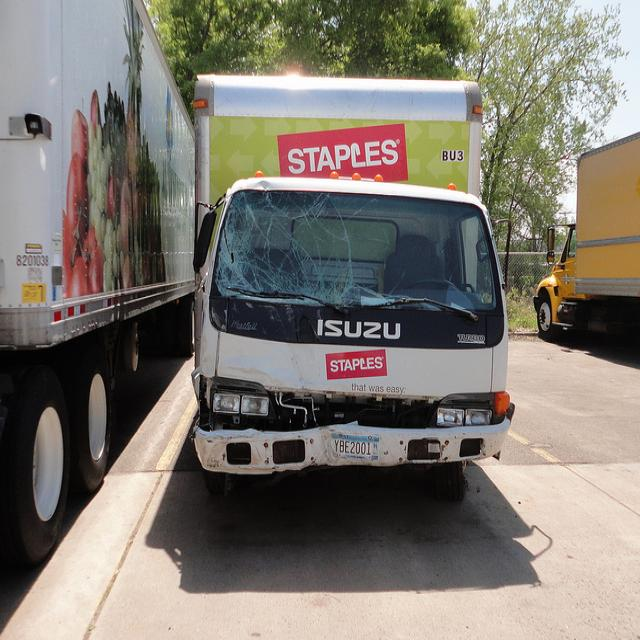Vehicle: (192, 72, 514, 500), (0, 1, 197, 547), (533, 131, 640, 359)
